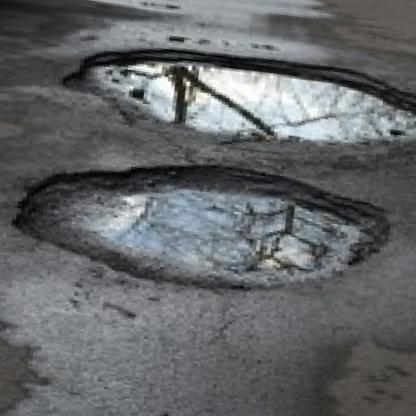pothole: (0, 138, 402, 310), (54, 28, 416, 177)
